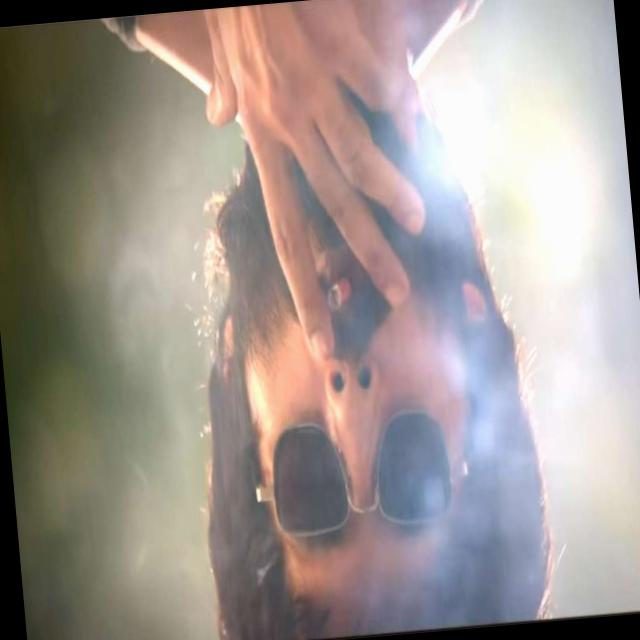cigarette: (324, 258, 349, 323)
